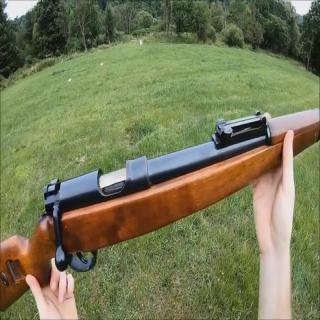gun: (1, 102, 308, 320)
